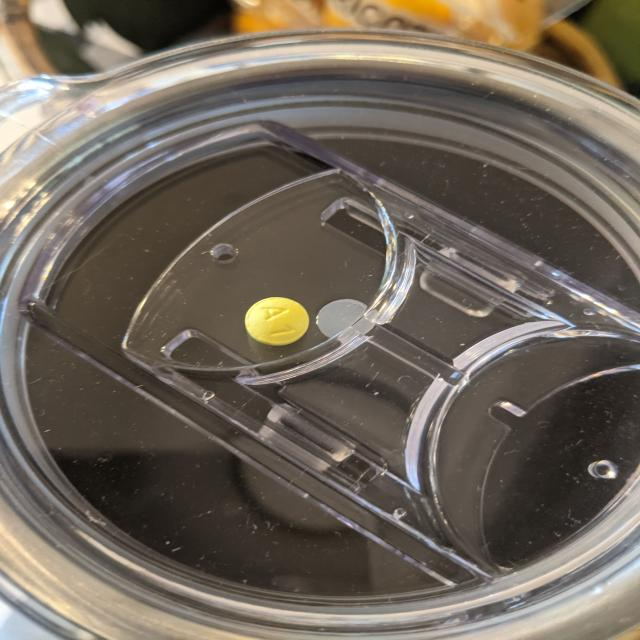non-organic waste: (243, 296, 310, 347)
